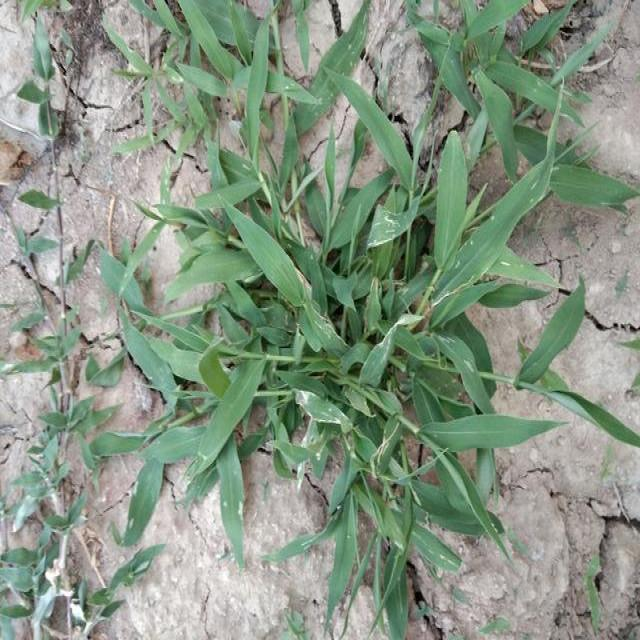weed: (330, 42, 614, 605), (164, 15, 334, 526), (0, 7, 171, 441), (16, 400, 164, 640)
